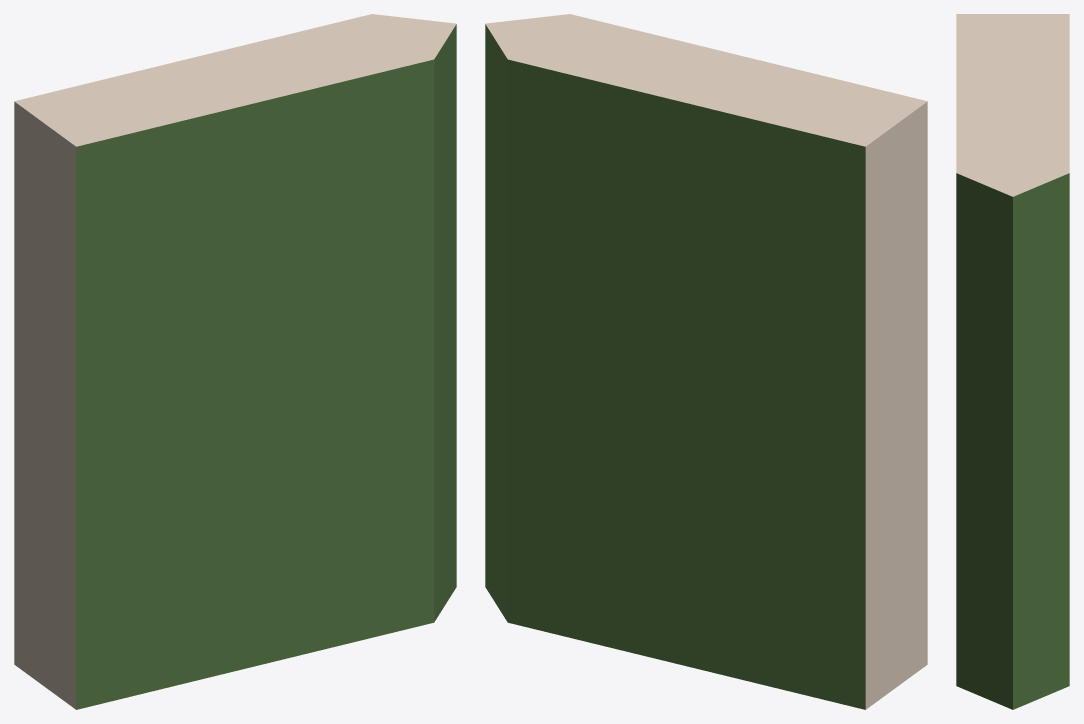
Rendered from Book_3_007.fbx.
3 views of the same model, side by side, from view 1: azimuth 30°, elevation 25°; view 2: azimuth 150°, elevation 25°; view 3: azimuth 270°, elevation 25° (orthographic). The views are drawn at different scales.
Visible parts, largest first — view 1: Book 3.007; view 2: Book 3.007; view 3: Book 3.007.
Part boxes in pixels (x1=…): Book 3.007: x1=14, y1=14, x2=456, y2=709; Book 3.007: x1=485, y1=14, x2=927, y2=709; Book 3.007: x1=956, y1=14, x2=1069, y2=709.
Bounding box in the file's own units: 55.13 × 72.09 × 14.42.
